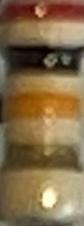Black: (1, 45, 83, 79)
Orange: (3, 92, 82, 126)
Red: (0, 2, 84, 26)
Side-Gold: (0, 142, 83, 174)
